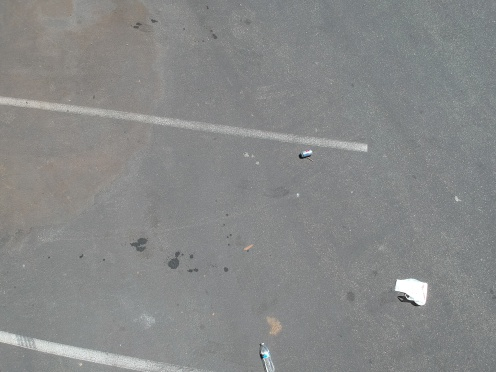bottle: (251, 336, 281, 372)
can: (297, 146, 315, 159)
plastic bag: (386, 273, 431, 308)
